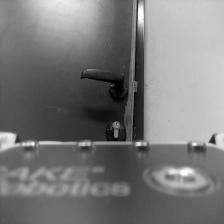Door Handle: (80, 67, 129, 103)
Lock: (105, 118, 127, 143)
